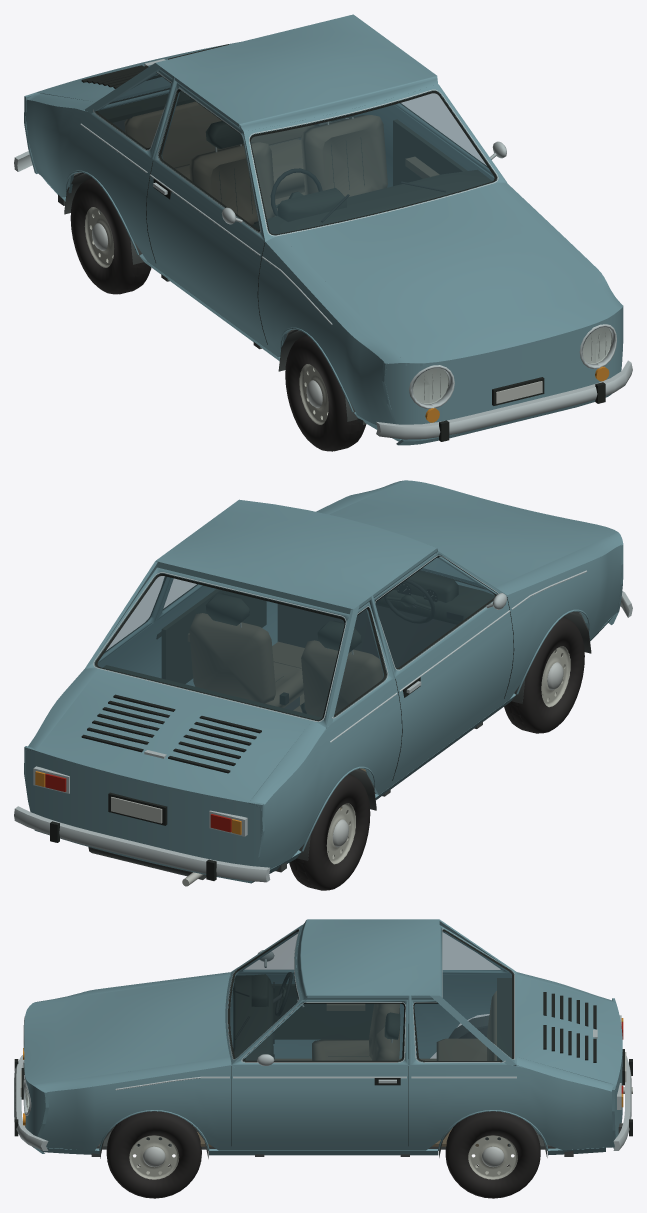
Rendered from marten-candidate.glb.
3 renders of one model, top to bottom at view 1: azimuth 30°, elevation 25°; view 2: azimuth 150°, elevation 25°; view 3: azimuth 270°, elevation 25°, orthographic. The views are drawn at different scales.
Parts seen in each view (by area): view 1: panel_hoodMarten, glass_FrontMarten, panel_RoofMarten, panel_BodyDoorLMarten, panel_FrontValanceMarten, panel_RearWingLMarten, panel_FrontWingLMarten, glass_BodyDoorLMarten, Interior Marten seat back 1, Interior Marten seat back -1, Tire_Marten_Carcass_RL, Tire_Marten_Carcass_FL (+29 smaller); view 2: glass_RearMarten, panel_EngineLidMarten, panel_RoofMarten, panel_hoodMarten, panel_RearValanceMarten, panel_BodyDoorLMarten, panel_RearWingLMarten, panel_FrontWingLMarten, glass_BodyDoorLMarten, Interior Marten seat back 1, Structure Marten front bulkhead, Tire_Marten_Carcass_FL (+33 smaller); view 3: panel_hoodMarten, panel_BodyDoorRMarten, panel_RearWingRMarten, panel_RoofMarten, panel_FrontWingRMarten, panel_EngineLidMarten, glass_BodyDoorRMarten, glass_RearMarten, glass_FrontMarten, Tire_Marten_Carcass_FR, Tire_Marten_Carcass_RR, panel_RearWingLMarten (+31 smaller).
Part boxes in pixels (x1,y1,x2,y2): panel_hoodMarten: (281, 184, 618, 366); glass_FrontMarten: (251, 93, 494, 234); panel_RoofMarten: (155, 15, 436, 126); panel_BodyDoorLMarten: (146, 160, 269, 350); panel_FrontValanceMarten: (382, 305, 623, 445); panel_RearWingLMarten: (26, 99, 157, 268); panel_FrontWingLMarten: (258, 242, 394, 425); glass_BodyDoorLMarten: (161, 91, 259, 229); Interior Marten seat back 1: (301, 115, 387, 196); Interior Marten seat back -1: (189, 142, 275, 224); Tire_Marten_Carcass_RL: (70, 177, 151, 294); Tire_Marten_Carcass_FL: (285, 334, 365, 451); glass_RearMarten: (97, 576, 344, 719); panel_EngineLidMarten: (36, 669, 311, 805); panel_RoofMarten: (156, 499, 437, 611); panel_hoodMarten: (329, 480, 617, 586); panel_RearValanceMarten: (24, 746, 264, 882); panel_BodyDoorLMarten: (390, 596, 513, 786); panel_RearWingLMarten: (257, 677, 401, 869); panel_FrontWingLMarten: (502, 544, 621, 704); glass_BodyDoorLMarten: (375, 557, 494, 667); Interior Marten seat back 1: (189, 613, 275, 703); Structure Marten front bulkhead: (277, 604, 456, 667); Tire_Marten_Carcass_FL: (504, 616, 584, 733); panel_hoodMarten: (24, 975, 229, 1086); panel_BodyDoorRMarten: (231, 1065, 408, 1150); panel_RearWingRMarten: (408, 1065, 614, 1150); panel_RoofMarten: (301, 919, 439, 998); panel_FrontWingRMarten: (40, 1065, 231, 1150); panel_EngineLidMarten: (517, 975, 622, 1086); glass_BodyDoorRMarten: (245, 1003, 404, 1060); glass_RearMarten: (442, 931, 511, 1058); glass_FrontMarten: (230, 932, 298, 1058); Tire_Marten_Carcass_FR: (106, 1111, 201, 1198); Tire_Marten_Carcass_RR: (445, 1111, 540, 1198); panel_RearWingLMarten: (414, 974, 511, 1058).
Size of the model in its own units: 1.72 by 1.51 by 4.17.
